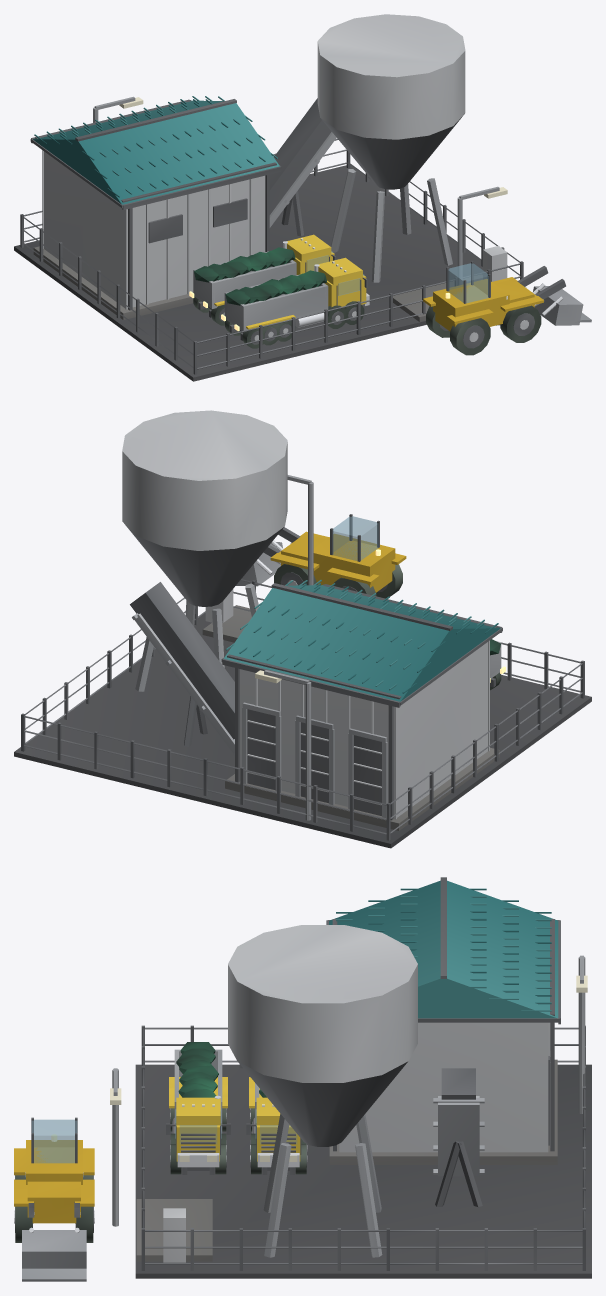
The model's file is Haul_P3.fbx.
The picture shows the model from 3 angles, top to bottom: view 1: azimuth 30°, elevation 25°; view 2: azimuth 150°, elevation 25°; view 3: azimuth 270°, elevation 25°; orthographic projection. The views are drawn at different scales.
Visible parts, largest first — view 1: Haul.Workshop, Haul.Hopper, Haul.Yard, Haul.Loader, Haul.Parked1, Haul.Fence, Haul.Parked0, Haul.Conv, Haul.Weighbridge, Haul.Lamp0; view 2: Haul.Workshop, Haul.Hopper, Haul.Yard, Haul.Fence, Haul.Loader, Haul.Conv, Haul.Lamp1, Haul.Weighbridge, Haul.Lamp0, Haul.Parked1; view 3: Haul.Yard, Haul.Workshop, Haul.Hopper, Haul.Loader, Haul.Parked1, Haul.Fence, Haul.Conv, Haul.Weighbridge, Haul.Parked0, Haul.Lamp1, Haul.Lamp0.
Boxes of the visible parts, left/top/right/bottom form: Haul.Workshop: left=30, top=96, right=281, bottom=319; Haul.Hopper: left=317, top=14, right=465, bottom=282; Haul.Yard: left=14, top=165, right=482, bottom=381; Haul.Loader: left=423, top=261, right=591, bottom=355; Haul.Parked1: left=221, top=257, right=369, bottom=348; Haul.Fence: left=20, top=138, right=523, bottom=374; Haul.Parked0: left=189, top=234, right=335, bottom=325; Haul.Conv: left=269, top=98, right=336, bottom=236; Haul.Weighbridge: left=393, top=246, right=507, bottom=321; Haul.Lamp0: left=457, top=186, right=507, bottom=285; Haul.Workshop: left=221, top=580, right=502, bottom=830; Haul.Hopper: left=122, top=410, right=287, bottom=691; Haul.Yard: left=14, top=613, right=591, bottom=848; Haul.Fence: left=21, top=579, right=584, bottom=840; Haul.Loader: left=236, top=514, right=406, bottom=598; Haul.Conv: left=130, top=582, right=234, bottom=756; Haul.Lamp1: left=255, top=670, right=311, bottom=820; Haul.Weighbridge: left=202, top=589, right=251, bottom=642; Haul.Lamp0: left=287, top=475, right=313, bottom=585; Haul.Parked1: left=490, top=639, right=505, bottom=690; Haul.Yard: left=135, top=1064, right=591, bottom=1278; Haul.Workshop: left=326, top=877, right=560, bottom=1164; Haul.Hopper: left=228, top=925, right=417, bottom=1257; Haul.Loader: left=14, top=1117, right=94, bottom=1281; Haul.Parked1: left=166, top=1042, right=230, bottom=1174; Haul.Fence: left=141, top=1025, right=585, bottom=1270; Haul.Conv: left=433, top=1068, right=484, bottom=1207; Haul.Weighbridge: left=136, top=1199, right=212, bottom=1262; Haul.Parked0: left=246, top=1077, right=307, bottom=1174; Haul.Lamp1: left=576, top=955, right=587, bottom=1113; Haul.Lamp0: left=110, top=1068, right=121, bottom=1226.
Size of the model in its own units: 2734 by 1598 by 3040.
